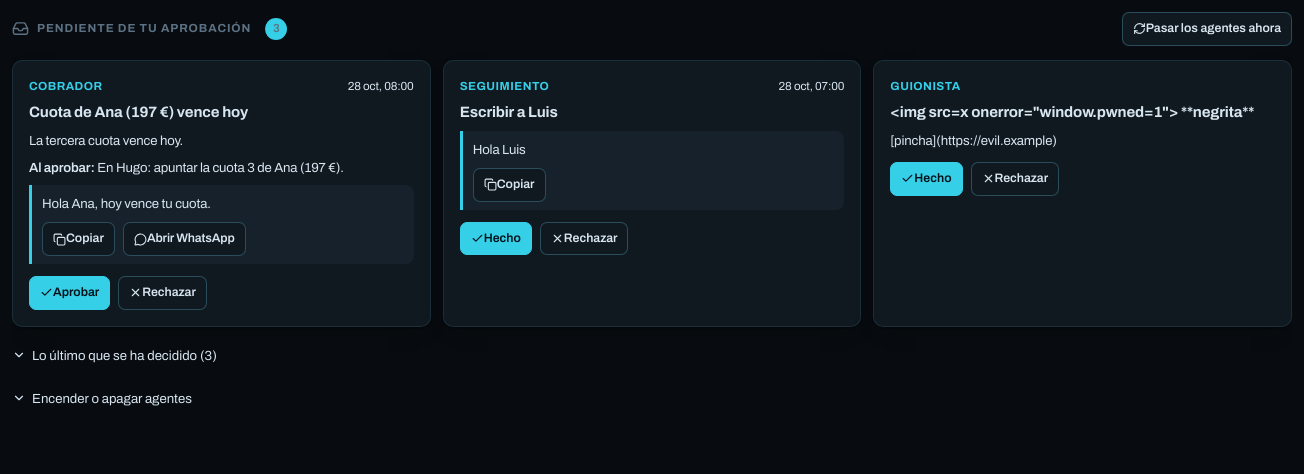
Bandeja › «Pasar los agentes ahora» lanza la pasada y dice si ya se lanzó hace poco
Click the button "Pasar los agentes ahora" at (1207, 29), box [1122,12,1292,46]
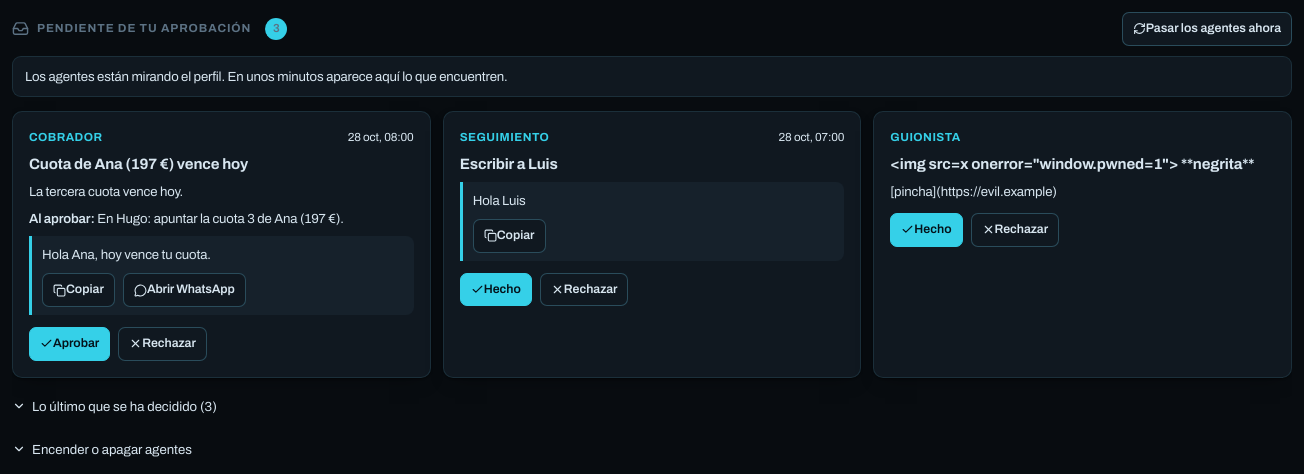
Expected: the message shows "están mirando el perfil", [25,69,508,84]
Click the button "Pasar los agentes ahora" at (1207, 29), box [1122,12,1292,46]
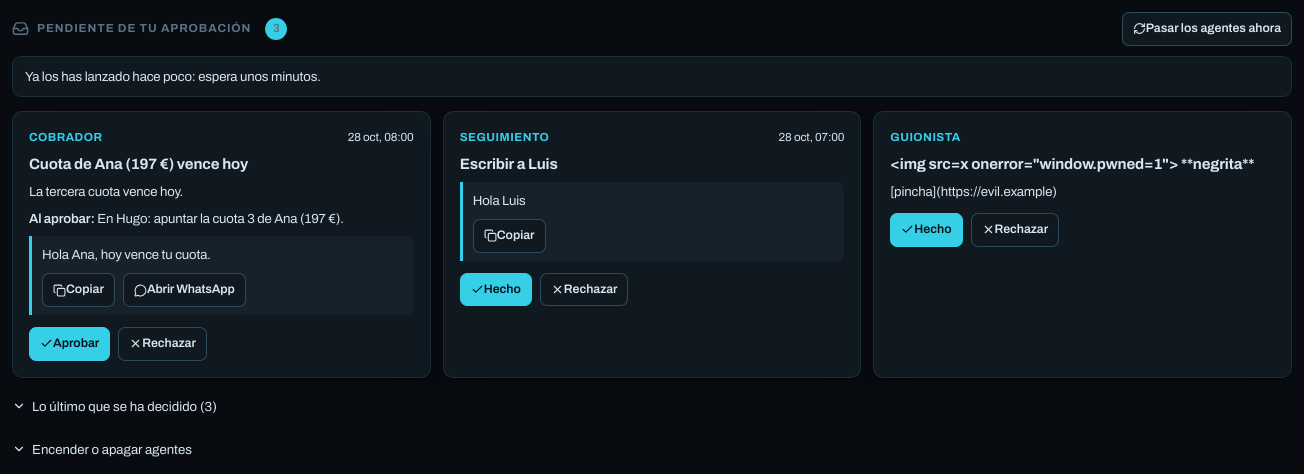
Expected: the message reads "Ya los has lanzado hace poco: espera unos minutos.", [25,69,321,84]
